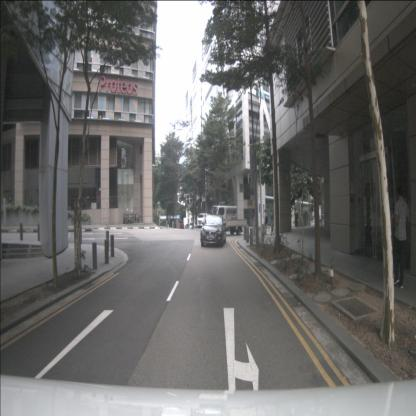human-pedestrian-adult: (392, 186, 410, 289), (263, 210, 268, 234)
vehicle-car: (200, 215, 226, 246), (197, 213, 210, 228), (178, 220, 184, 230), (189, 222, 194, 230)
vehicle-truck: (210, 206, 247, 235)
